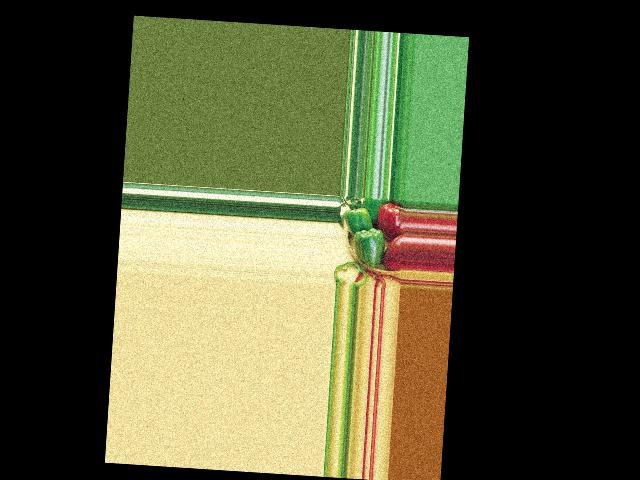bell_pepper: (384, 232, 403, 271)
